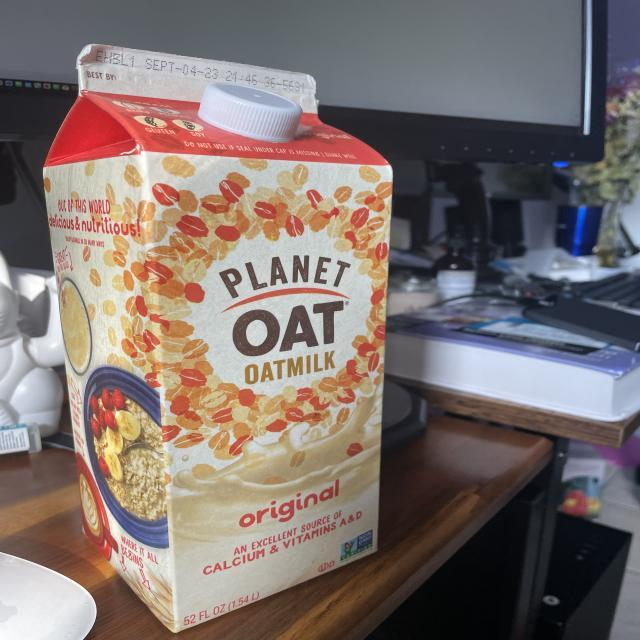Planet Oat Original: (35, 40, 395, 634)
